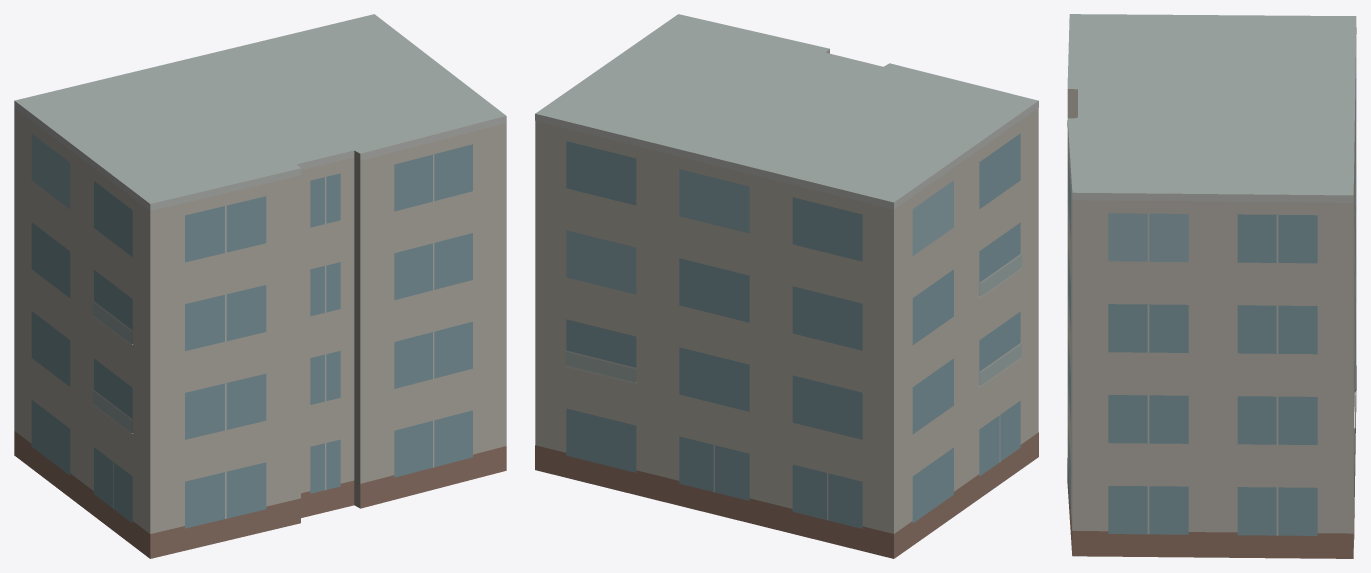
File: survey-upis-32779962.glb
The picture shows the model from 3 angles, left to right: view 1: azimuth 30°, elevation 25°; view 2: azimuth 150°, elevation 25°; view 3: azimuth 270°, elevation 25°; orthographic projection. The views are drawn at different scales.
Visible parts, largest first — view 1: survey-upis-32779962.tmp; view 2: survey-upis-32779962.tmp; view 3: survey-upis-32779962.tmp.
Boxes of the visible parts, left/top/right/bottom form: survey-upis-32779962.tmp: left=14, top=14, right=506, bottom=558; survey-upis-32779962.tmp: left=535, top=14, right=1038, bottom=558; survey-upis-32779962.tmp: left=1067, top=14, right=1356, bottom=558.
Size of the model in its own units: 13.08 by 12.2 by 8.8.
